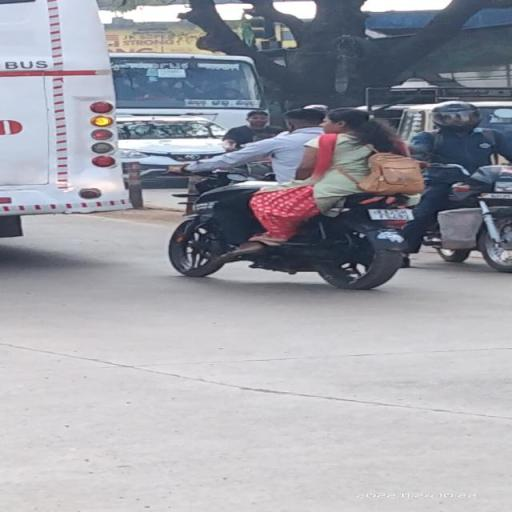bike: (168, 105, 428, 289)
numberplate: (370, 208, 412, 222)
withouthelmet: (324, 109, 366, 133), (284, 109, 322, 129)
